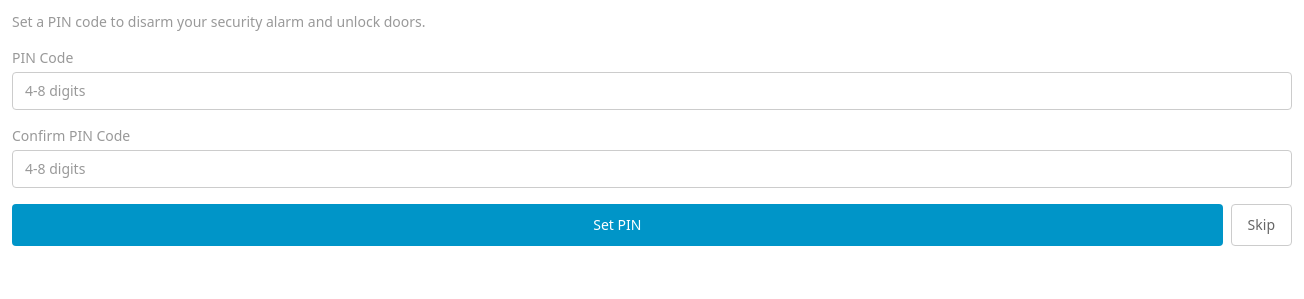
Test case: ChangePinForm – validation › shows error when PINs do not match
In the password field labelled "PIN Code": (652, 91) [12, 72, 1292, 110], type "1234"
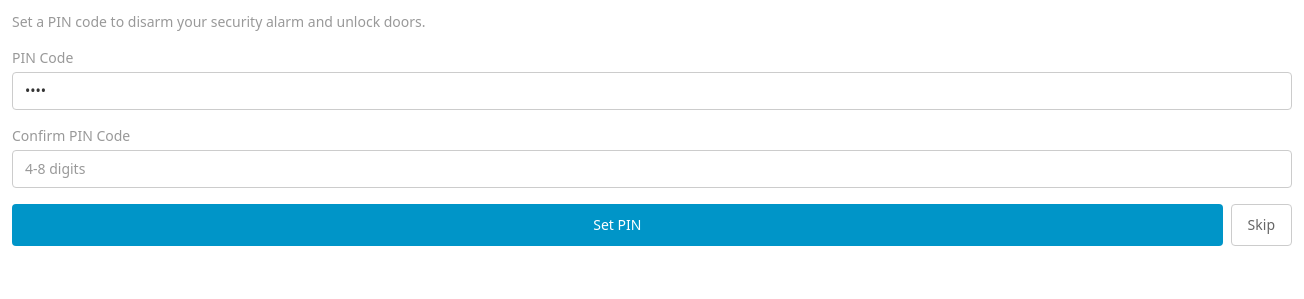
In the password field labelled "Confirm PIN Code": (652, 169) [12, 150, 1292, 188], type "5678"
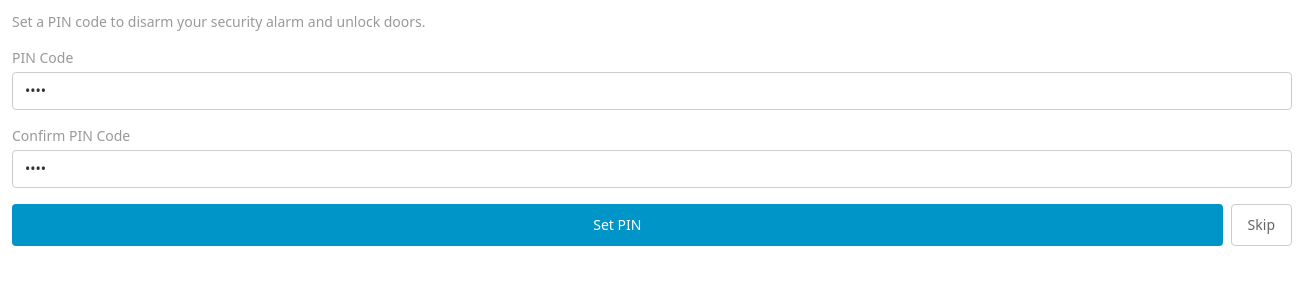
Click the button "Set PIN": click(617, 225) [12, 204, 1223, 246]
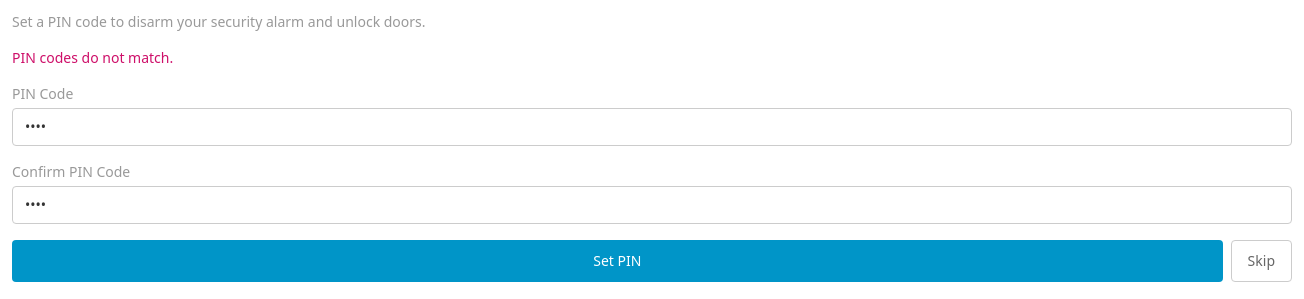
Result: the text "PIN codes do not match." is shown at [12, 48, 173, 67]
